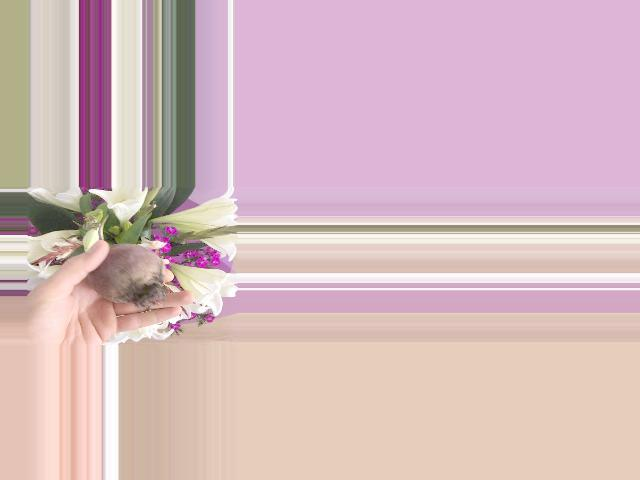beet: (89, 214, 167, 305)
